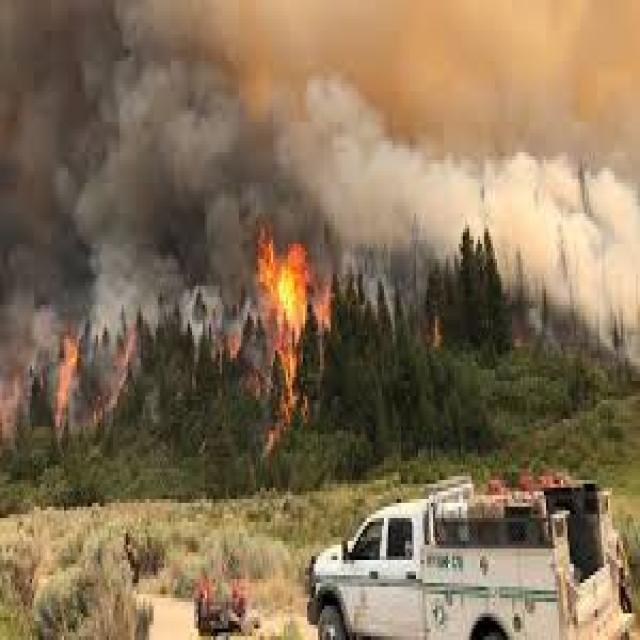Fire: (256, 229, 331, 457)
Smoke: (6, 28, 251, 292), (503, 23, 640, 320), (296, 34, 496, 225)
